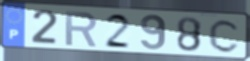2: (30, 9, 61, 46), (102, 12, 133, 49)
8: (176, 16, 203, 53)
9: (139, 13, 167, 51)
C: (208, 18, 242, 54)
R: (64, 9, 100, 48)
